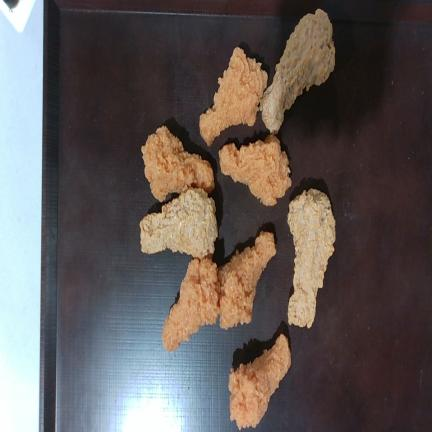chicken: (260, 8, 335, 134), (200, 47, 267, 146), (288, 188, 335, 328), (228, 334, 291, 429), (217, 231, 276, 329), (141, 126, 214, 201), (140, 189, 218, 258), (162, 258, 220, 350), (219, 135, 291, 205)
